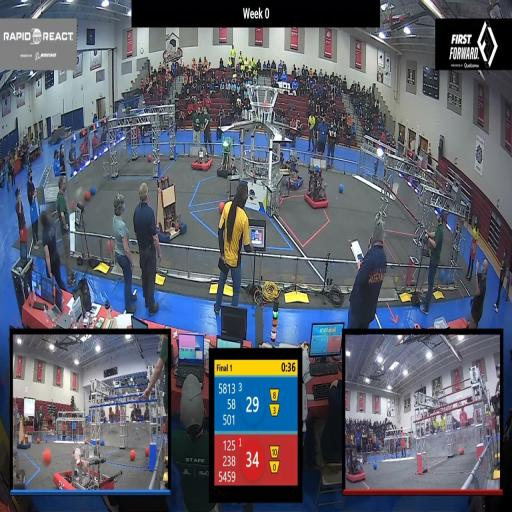robot: (151, 177, 188, 239), (304, 158, 328, 208), (282, 145, 305, 191), (216, 136, 237, 178), (193, 140, 213, 172)
